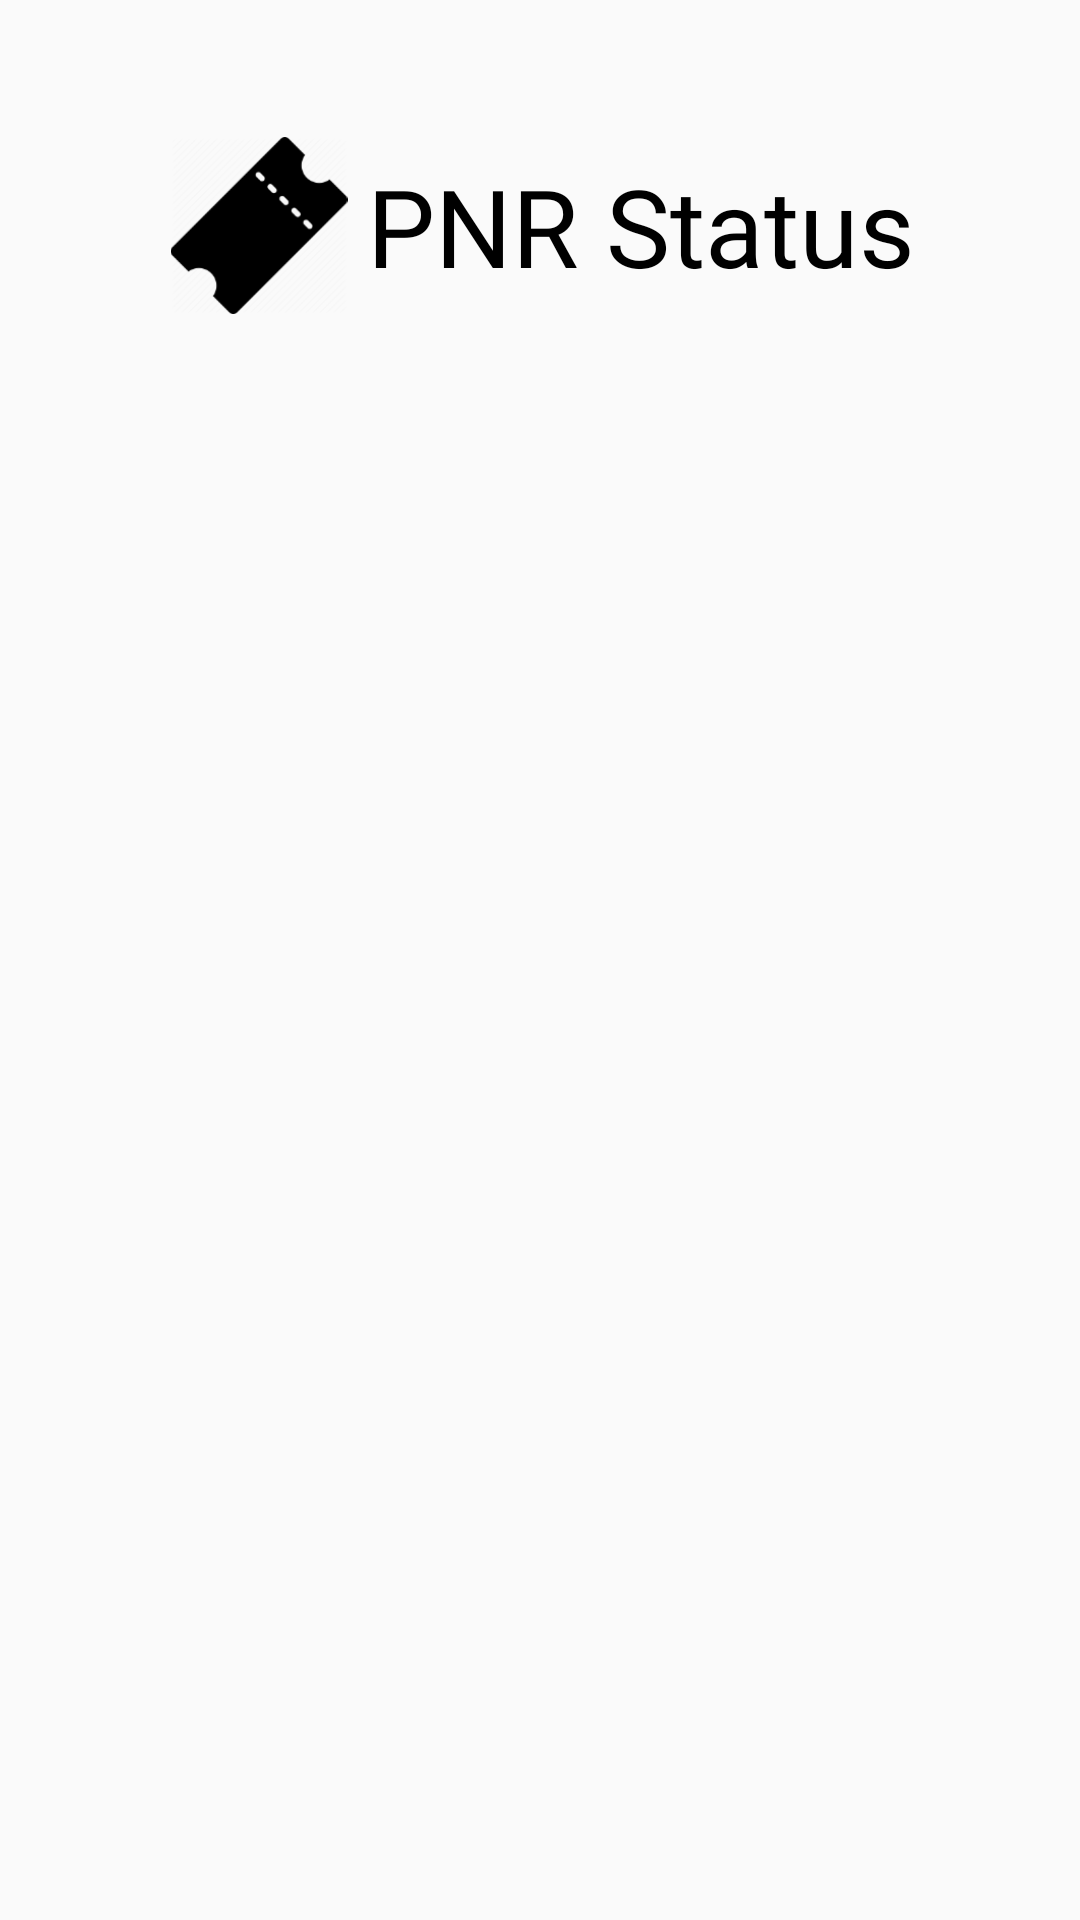

Screen size 1080px×1920px. Icon name, then its center in pixels as point (x, y):
fare: point (259, 225)
